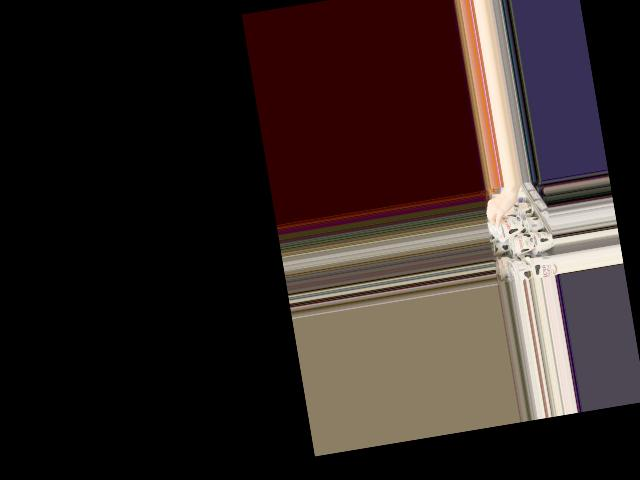cotage: (495, 214, 525, 242)
